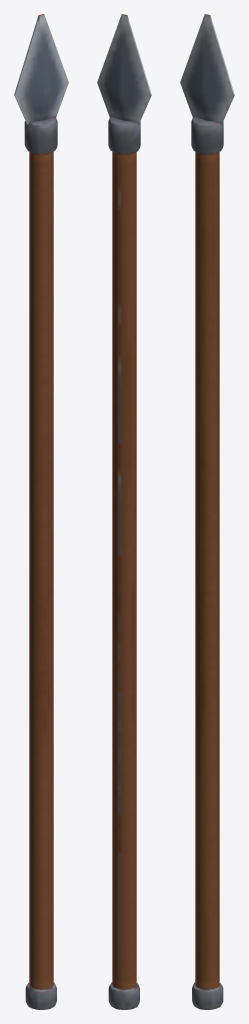
File: spear.glb
3 renders of one model, left to right at view 1: azimuth 30°, elevation 25°; view 2: azimuth 150°, elevation 25°; view 3: azimuth 330°, elevation 25°, orthographic.
Visible parts, largest first — view 1: spear; view 2: spear; view 3: spear.
Boxes of the visible parts, <box> form: spear: <box>14,14,68,1009</box>; spear: <box>97,14,151,1009</box>; spear: <box>180,14,234,1009</box>.
Bounding box in the file's own units: 0.0818 × 1.44 × 0.044.
Materials: 3 (3 with a texture image).
